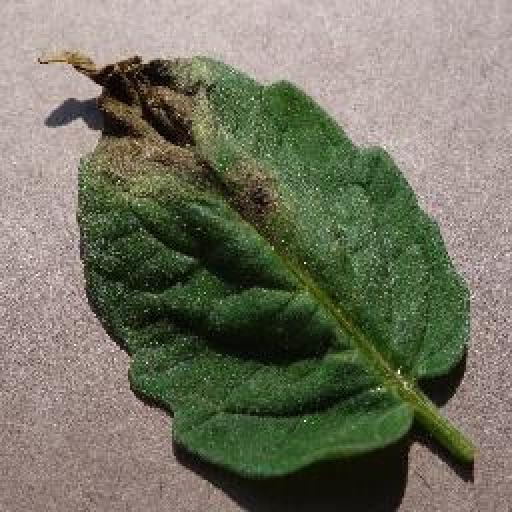Late Blight: (40, 52, 472, 477)
